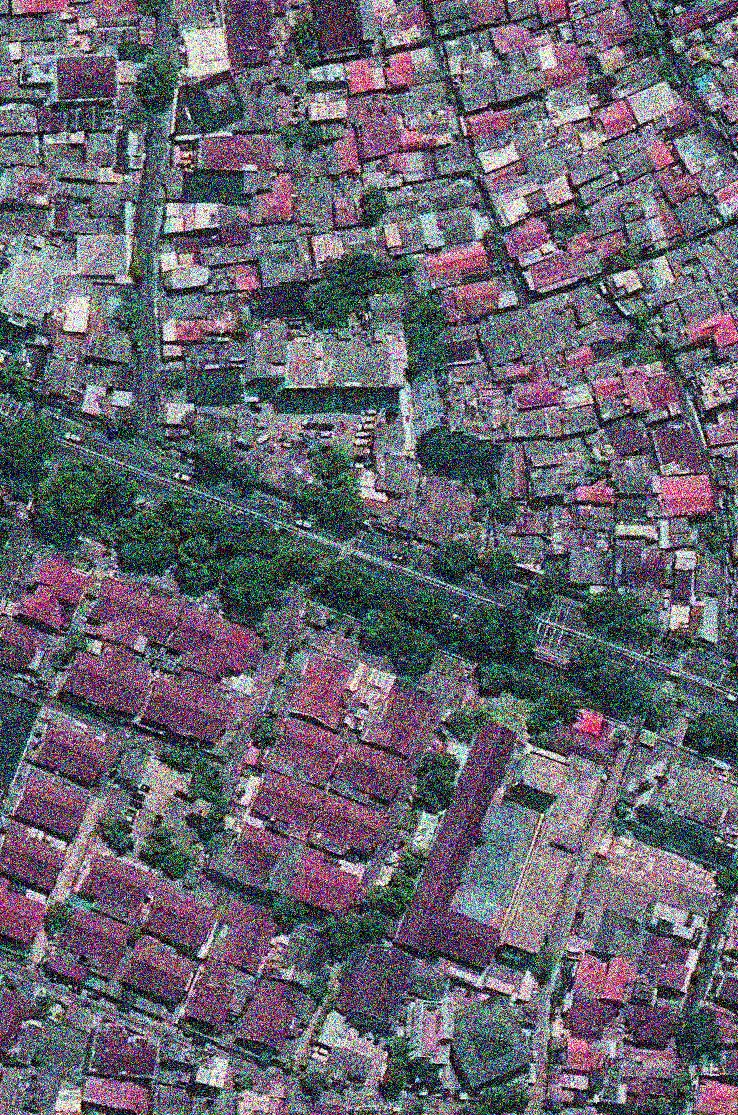building: (394, 716, 520, 958), (496, 751, 611, 957), (607, 724, 738, 866), (394, 356, 527, 466), (438, 12, 565, 118), (244, 313, 404, 389), (270, 645, 393, 737), (47, 295, 134, 415), (81, 568, 184, 663), (439, 990, 533, 1092), (229, 974, 317, 1071), (140, 660, 239, 746), (165, 602, 260, 686), (60, 635, 154, 719), (112, 927, 201, 1015), (202, 816, 301, 895), (669, 0, 737, 113), (301, 784, 391, 867), (335, 936, 415, 1028), (70, 845, 156, 927), (178, 954, 255, 1045), (199, 892, 279, 978), (451, 42, 548, 112), (238, 764, 325, 842), (255, 712, 345, 785), (13, 549, 91, 633), (259, 913, 337, 994), (358, 675, 434, 757), (281, 845, 364, 920), (0, 227, 64, 324), (51, 904, 132, 978), (52, 233, 131, 307), (85, 1013, 163, 1087), (0, 815, 73, 893), (15, 50, 120, 103), (141, 873, 218, 945), (30, 718, 111, 786), (563, 897, 645, 964), (612, 185, 683, 262), (525, 117, 609, 182), (12, 772, 89, 839), (399, 987, 458, 1074), (426, 905, 500, 973), (331, 737, 409, 801), (177, 67, 247, 138), (380, 76, 453, 144), (616, 354, 683, 427), (0, 687, 42, 798), (218, 0, 287, 67), (522, 241, 600, 296), (605, 123, 673, 186), (81, 288, 135, 360), (555, 992, 619, 1051), (0, 876, 50, 947), (28, 1018, 88, 1077), (579, 185, 641, 241), (356, 0, 427, 48), (605, 51, 673, 101), (572, 2, 637, 54), (632, 897, 702, 945), (370, 0, 433, 53), (572, 310, 640, 359), (71, 225, 130, 281), (648, 416, 702, 477), (472, 311, 527, 370), (545, 718, 612, 765), (419, 240, 492, 282), (411, 170, 479, 215), (318, 1040, 376, 1092), (620, 77, 679, 128), (76, 1074, 149, 1115), (692, 223, 738, 288), (440, 277, 504, 323), (174, 163, 247, 203), (381, 212, 441, 260), (688, 356, 738, 413), (427, 0, 506, 36), (251, 279, 318, 321), (255, 236, 312, 285), (310, 0, 358, 58), (294, 178, 341, 237), (499, 212, 554, 262), (532, 37, 587, 87), (311, 225, 383, 263), (671, 122, 722, 175), (489, 186, 551, 229), (513, 749, 568, 797), (665, 0, 736, 37), (0, 987, 40, 1052), (278, 130, 330, 180), (540, 78, 592, 127), (0, 159, 52, 208), (623, 1001, 677, 1048), (654, 472, 711, 516), (198, 134, 274, 167), (529, 452, 584, 497), (0, 620, 43, 677), (181, 26, 228, 78), (668, 191, 715, 242), (470, 131, 525, 174), (39, 348, 82, 403), (529, 306, 576, 356), (75, 353, 134, 391), (653, 157, 699, 205), (79, 385, 137, 423), (479, 158, 534, 198), (638, 930, 699, 966), (645, 271, 699, 311), (162, 225, 234, 255), (183, 367, 241, 404), (696, 60, 738, 111), (88, 128, 140, 169), (598, 954, 638, 1007), (676, 281, 722, 327), (373, 452, 418, 499), (701, 985, 738, 1042), (10, 340, 52, 390), (253, 165, 292, 218), (155, 203, 215, 237), (510, 109, 555, 153), (433, 204, 478, 247), (648, 954, 694, 996), (605, 415, 647, 461), (357, 116, 403, 158), (567, 951, 608, 998), (183, 337, 245, 368), (567, 283, 610, 327), (326, 124, 361, 178), (489, 15, 534, 56), (200, 262, 261, 292), (547, 1064, 591, 1105), (594, 1038, 622, 1102), (497, 443, 528, 500), (404, 962, 449, 1001), (620, 553, 667, 590), (674, 39, 716, 80), (368, 411, 405, 457), (199, 288, 250, 321), (695, 1074, 737, 1114), (333, 173, 364, 226), (193, 1050, 233, 1091), (594, 98, 634, 139), (566, 547, 604, 590), (556, 1039, 605, 1072), (510, 376, 559, 409), (610, 148, 652, 186), (606, 488, 648, 526), (374, 184, 417, 221), (593, 39, 638, 74), (558, 397, 599, 435), (250, 78, 279, 131), (676, 341, 715, 380), (702, 404, 738, 446), (438, 323, 476, 362), (539, 171, 578, 209), (431, 140, 471, 177), (464, 106, 510, 138), (48, 199, 95, 230), (691, 591, 719, 643), (604, 264, 644, 300), (159, 262, 208, 291), (516, 409, 559, 441), (707, 178, 738, 222), (566, 154, 608, 186), (584, 72, 622, 107), (380, 49, 414, 88), (0, 207, 49, 234), (570, 704, 614, 734), (157, 294, 204, 322), (367, 292, 408, 324), (1, 129, 42, 161), (624, 0, 660, 36), (397, 148, 436, 181), (363, 155, 402, 188), (618, 1072, 650, 1112), (150, 1083, 191, 1114), (643, 136, 678, 172), (591, 228, 629, 261), (669, 550, 694, 600), (508, 0, 564, 22), (41, 130, 83, 159), (656, 517, 694, 549), (272, 59, 310, 91), (694, 553, 722, 596), (498, 534, 542, 561), (513, 507, 549, 540), (362, 499, 400, 530), (55, 158, 100, 184), (4, 12, 43, 42), (581, 355, 626, 381), (66, 104, 114, 128), (58, 292, 86, 332), (560, 342, 597, 372), (401, 256, 431, 293), (663, 599, 692, 636), (571, 505, 613, 530), (342, 57, 371, 93), (306, 98, 350, 121), (91, 0, 139, 21), (88, 192, 125, 219), (574, 480, 615, 504), (0, 100, 35, 128), (194, 406, 233, 431), (159, 317, 199, 341), (648, 253, 676, 287), (559, 382, 594, 409), (595, 391, 627, 420), (613, 521, 658, 541), (492, 278, 519, 310), (589, 371, 619, 399), (195, 321, 241, 339), (571, 0, 617, 18), (149, 331, 158, 421), (407, 46, 435, 74), (39, 11, 66, 40), (38, 102, 64, 132), (258, 222, 297, 241), (170, 131, 186, 174), (718, 1044, 737, 1080), (716, 974, 736, 1007), (12, 0, 67, 12), (614, 538, 647, 558), (638, 1059, 672, 1078), (218, 225, 249, 245), (321, 232, 343, 259), (641, 1076, 668, 1097), (561, 527, 582, 552), (558, 368, 585, 387), (344, 236, 372, 254), (718, 467, 737, 493), (139, 17, 155, 46), (75, 235, 91, 263), (631, 981, 653, 1001), (0, 35, 11, 75), (236, 225, 250, 246), (312, 231, 323, 246), (92, 181, 105, 193), (217, 248, 230, 259), (79, 161, 90, 173), (99, 168, 112, 177), (171, 320, 177, 339), (280, 71, 288, 85)
tree: (318, 548, 464, 643), (560, 634, 659, 719), (213, 527, 294, 622), (349, 606, 445, 686), (316, 890, 394, 964), (147, 483, 222, 552), (105, 504, 181, 571), (32, 455, 99, 529), (365, 851, 435, 919), (293, 270, 361, 338), (0, 406, 63, 479), (459, 599, 540, 655), (134, 820, 198, 885), (409, 746, 462, 823), (583, 588, 657, 641), (299, 477, 363, 534), (520, 679, 587, 733), (178, 421, 237, 482), (476, 660, 551, 703), (671, 1001, 724, 1061), (431, 533, 485, 586), (172, 536, 225, 589), (214, 516, 279, 557), (645, 1070, 702, 1115), (130, 52, 179, 104), (473, 545, 522, 595), (684, 710, 735, 756), (319, 250, 368, 294), (406, 318, 444, 372), (442, 708, 489, 748), (642, 691, 685, 734), (97, 469, 139, 512), (464, 1086, 526, 1114), (376, 1040, 408, 1094), (516, 571, 558, 612), (309, 443, 350, 484), (0, 355, 38, 399), (523, 945, 562, 986), (196, 803, 230, 849), (264, 892, 306, 928), (186, 774, 229, 807), (283, 9, 318, 48), (111, 292, 141, 337), (0, 471, 36, 508), (405, 291, 441, 325), (289, 543, 326, 576), (98, 815, 131, 852), (489, 499, 520, 529), (118, 97, 148, 128), (300, 1065, 328, 1098), (280, 124, 320, 147), (159, 743, 193, 770), (607, 244, 641, 271), (233, 458, 264, 487), (712, 860, 737, 894), (159, 365, 188, 394), (363, 272, 401, 294), (361, 188, 387, 220), (43, 900, 68, 933), (367, 257, 413, 274), (125, 254, 148, 287), (295, 44, 324, 70), (552, 218, 586, 240), (31, 989, 55, 1020), (630, 341, 661, 365), (474, 477, 489, 520), (254, 715, 274, 746), (106, 418, 138, 436), (307, 975, 330, 1000), (194, 757, 216, 780), (255, 622, 277, 644), (234, 1068, 257, 1089), (233, 319, 254, 342), (635, 303, 655, 324), (280, 44, 299, 66), (286, 632, 308, 651), (587, 461, 607, 479), (401, 1099, 423, 1115), (0, 513, 16, 534), (154, 435, 172, 452), (399, 673, 418, 688)
